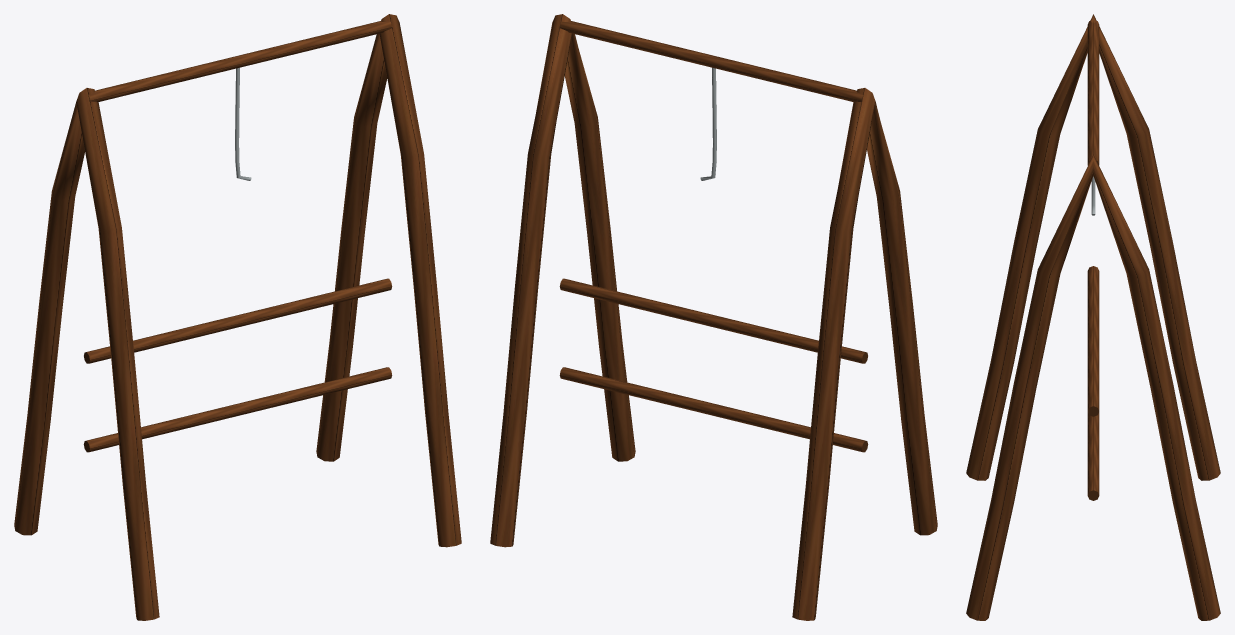
Rendered from survival-food-and-preservation-herb-hanging-rail-25af9874__21807.glb.
3 renders of one model, left to right at view 1: azimuth 30°, elevation 25°; view 2: azimuth 150°, elevation 25°; view 3: azimuth 270°, elevation 25°, orthographic. The views are drawn at different scales.
Parts seen in each view (by area): view 1: herb-hanging-rail; view 2: herb-hanging-rail; view 3: herb-hanging-rail.
Boxes of the visible parts, x1,y1,x2,y2 form: herb-hanging-rail: [14, 14, 461, 620]; herb-hanging-rail: [490, 14, 937, 620]; herb-hanging-rail: [966, 14, 1220, 620].
Size of the model in its own units: 1.07 by 1.54 by 0.7682.
Materials: 2 (1 with a texture image).
